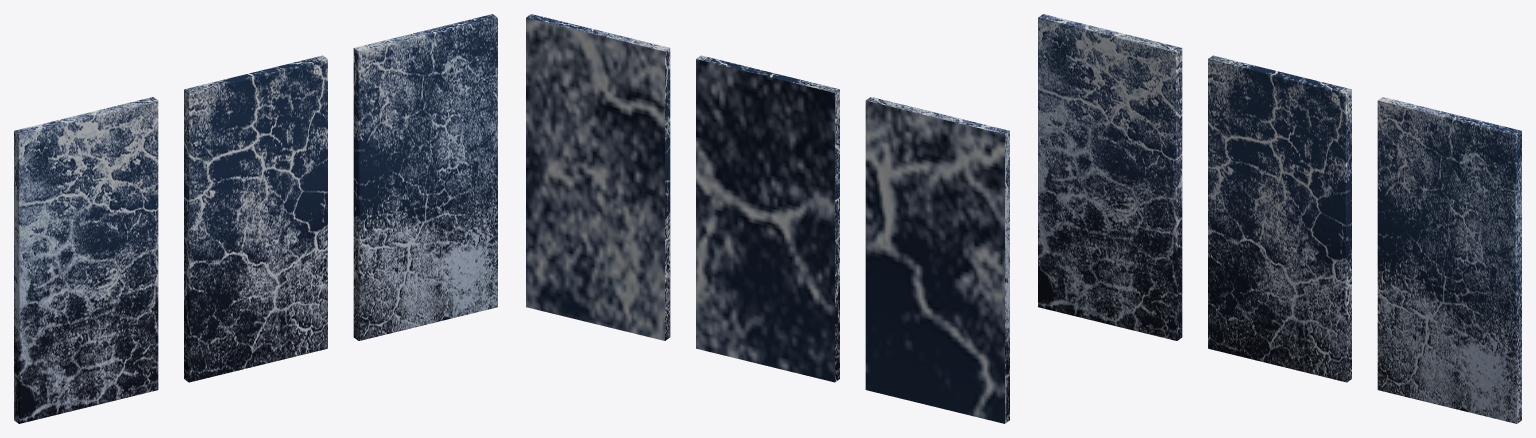
Rendered from ArtP-RtSmU3.fbx.
3 renders of one model, left to right at view 1: azimuth 30°, elevation 25°; view 2: azimuth 150°, elevation 25°; view 3: azimuth 330°, elevation 25°, orthographic.
Parts seen in each view (by area): view 1: ArtP_Concrete; view 2: ArtP_Concrete; view 3: ArtP_Concrete.
Part boxes in pixels (bbox=[...]): ArtP_Concrete: bbox=[14, 14, 497, 423]; ArtP_Concrete: bbox=[526, 14, 1009, 423]; ArtP_Concrete: bbox=[1038, 14, 1521, 423].
Bounding box in the file's own units: 158 × 91.44 × 3.17.
